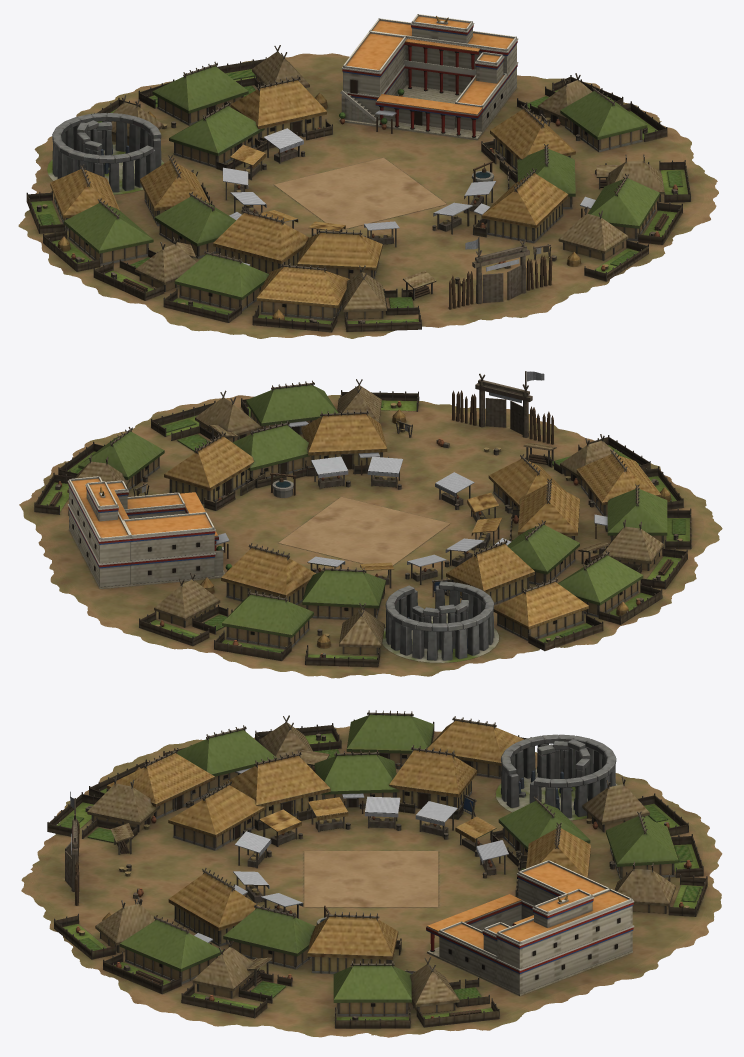
Rendered from bronze-town-big-a-europe.glb.
3 renders of one model, top to bottom at view 1: azimuth 30°, elevation 25°; view 2: azimuth 150°, elevation 25°; view 3: azimuth 270°, elevation 25°, orthographic. The views are drawn at different scales.
Visible parts, largest first — view 1: LOD0; view 2: LOD0; view 3: LOD0.
Boxes of the visible parts, x1=… form: LOD0: x1=18, y1=14, x2=718, y2=338; LOD0: x1=19, y1=371, x2=722, y2=678; LOD0: x1=21, y1=710, x2=722, y2=1037.
Size of what is drawn, in the model's own units: 7.93 by 0.8738 by 7.49.
Materials: 3 (3 with a texture image).
